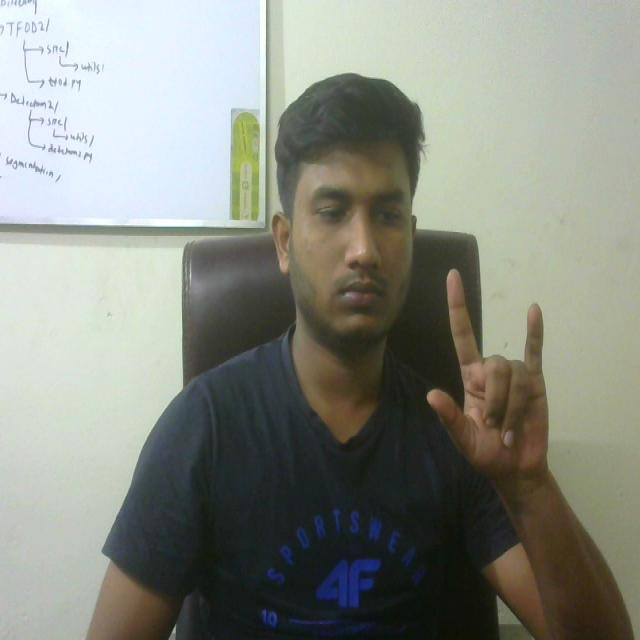I Love You: (422, 259, 565, 512)
